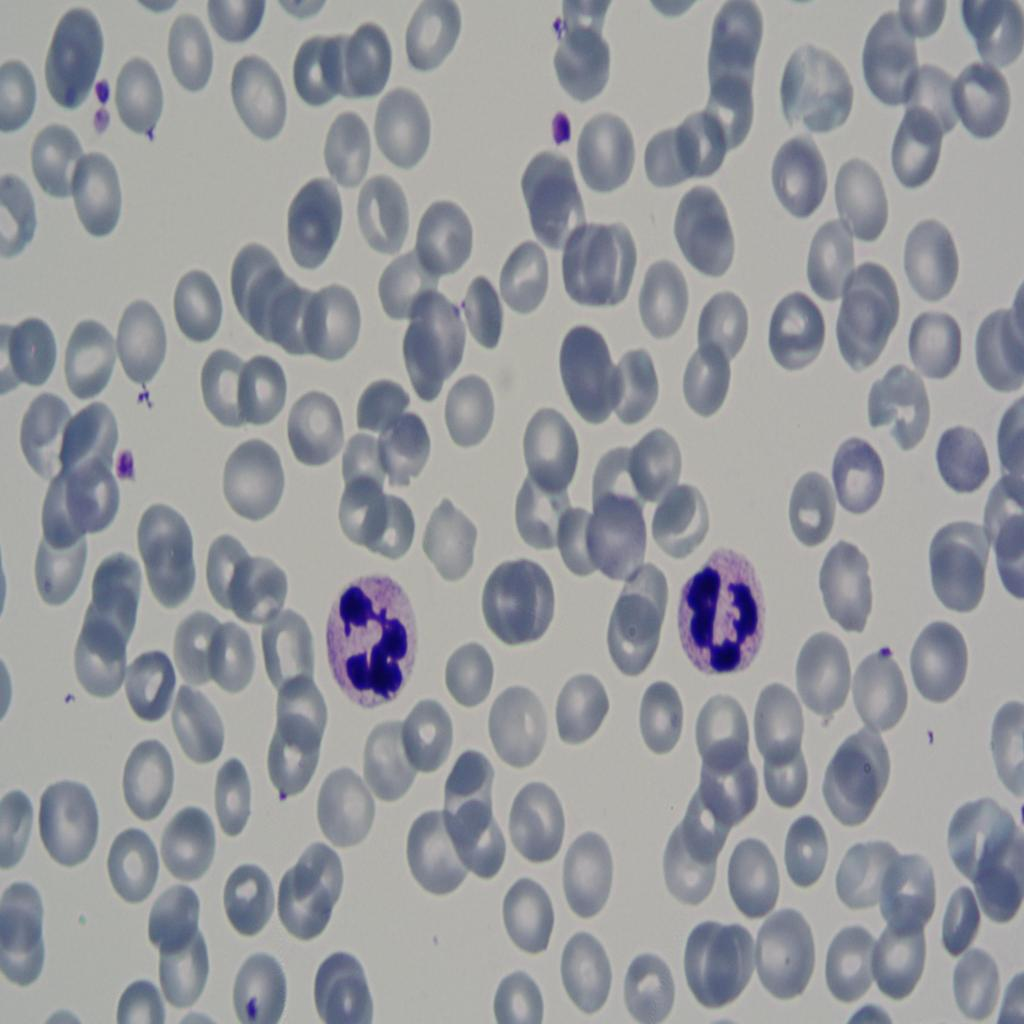Neutrofil: (322, 560, 415, 724), (674, 530, 764, 692)
Platelet: (533, 110, 579, 159), (111, 442, 144, 497), (85, 99, 115, 147), (92, 69, 112, 104)
